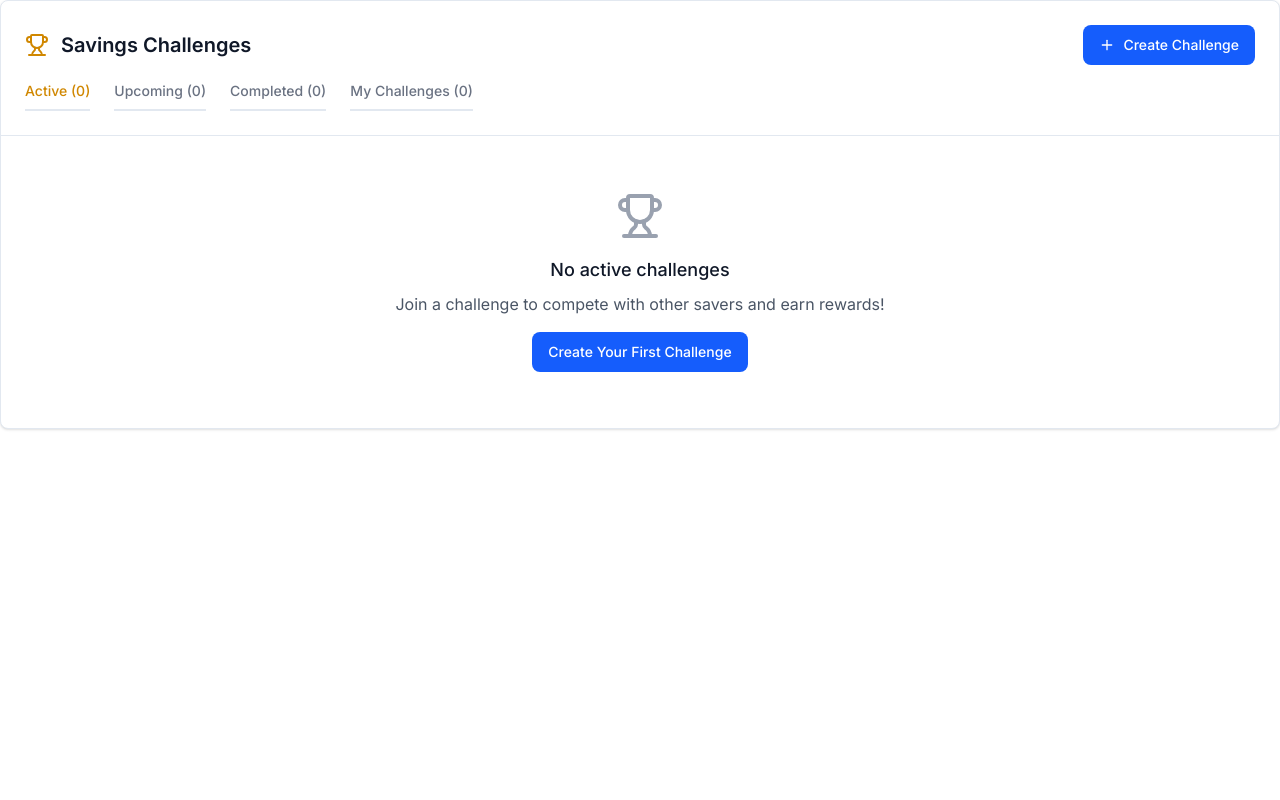
it: ChallengeManager › opens create challenge modal
This screenshot has width=1280, height=800.
Click the button "Create Challenge" at (1169, 45), box [1084,25,1255,65]
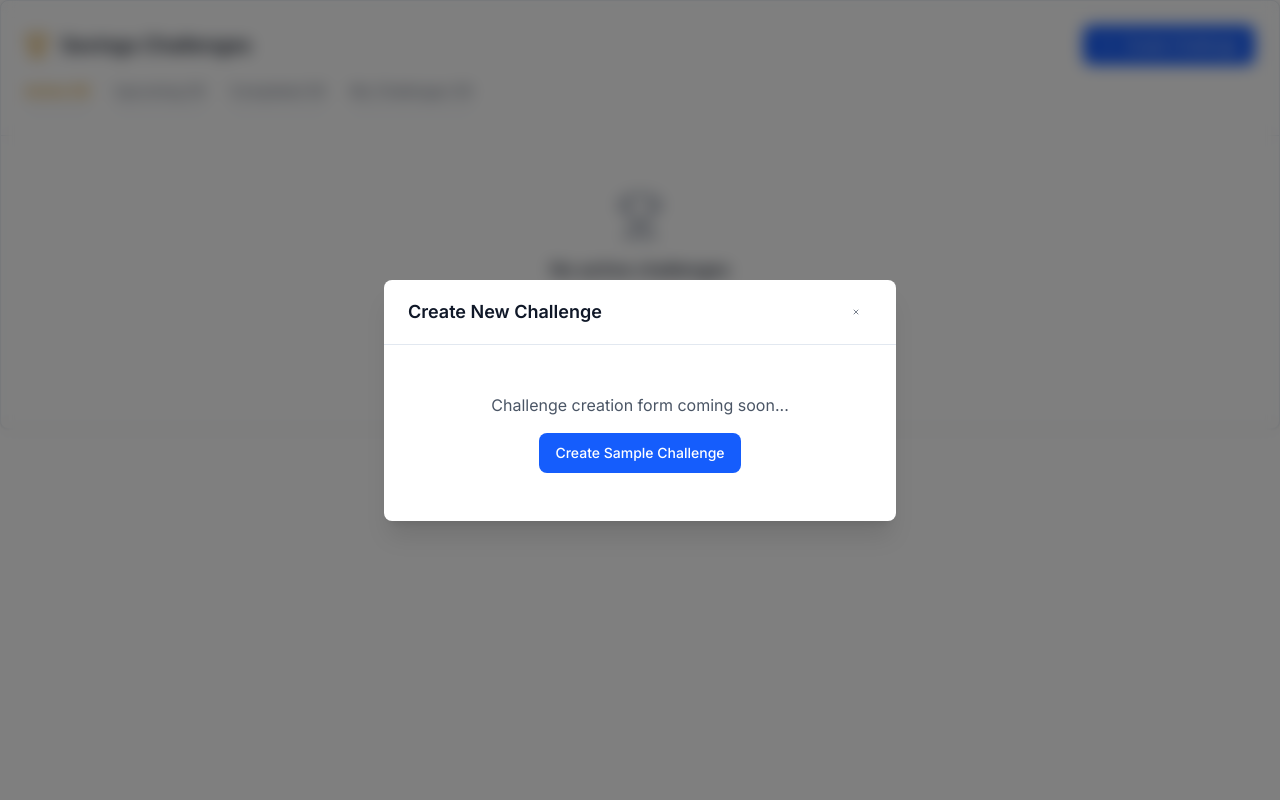
expect the text "Challenge creation form coming soon..." is shown: met, box [491,394,789,414]
